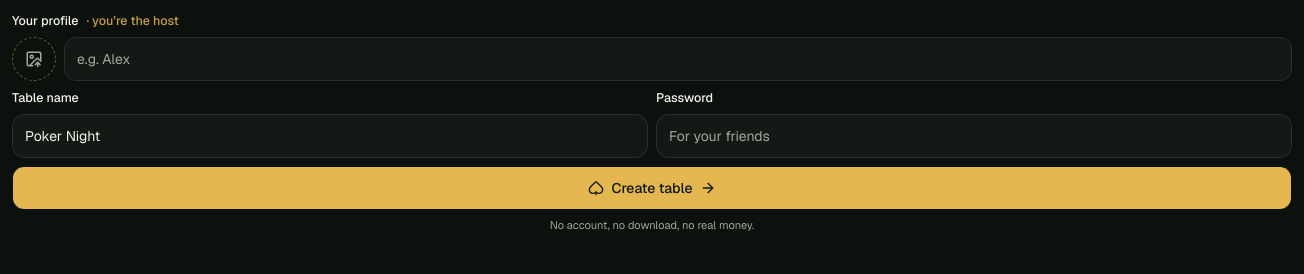
quick table creation › associates validation with the field and moves focus to the correction
Click the button "Create table": (652, 188) [12,166,1292,210]
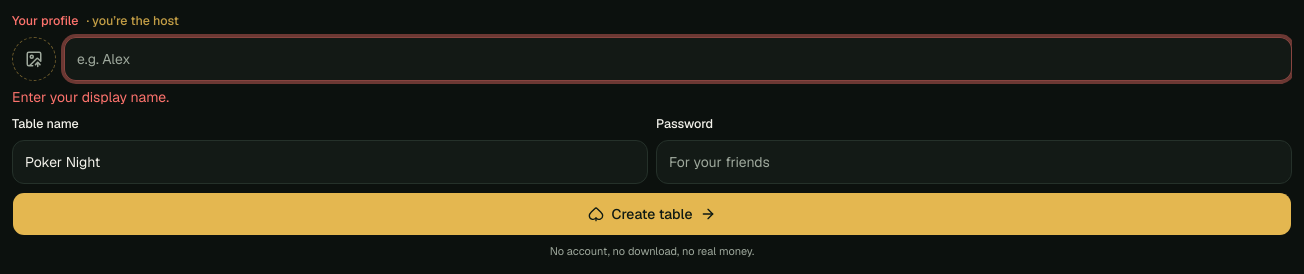
Expected: the field labelled "Your profile · you’re the host" is marked as invalid, [64,37,1292,81]
